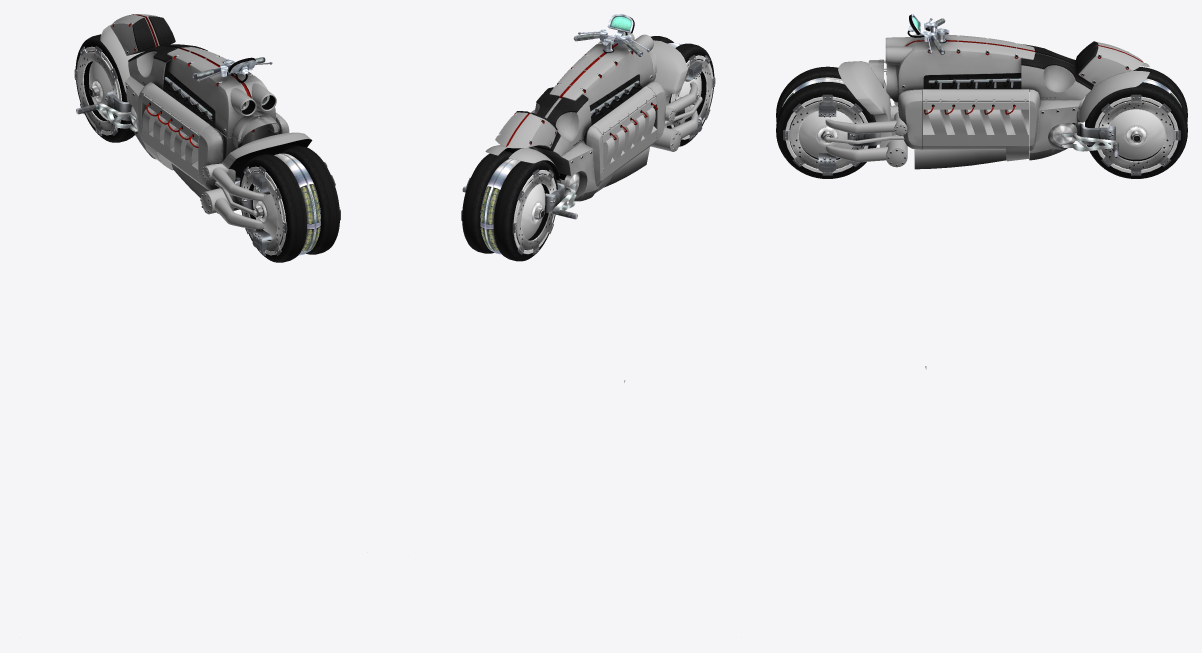
The model's file is dodge_tomahawk_2003.glb.
3 views of the same model, side by side, from view 1: azimuth 30°, elevation 25°; view 2: azimuth 150°, elevation 25°; view 3: azimuth 270°, elevation 25° (orthographic). The views are drawn at different scales.
Parts seen in each view (by area): view 1: Object_2, Object_7, Object_17, Object_3, Object_11, Object_13, Object_5, Object_8, Object_10, Object_14, Object_12; view 2: Object_2, Object_7, Object_17, Object_3, Object_11, Object_13, Object_8, Object_10, Object_5, Object_14, Object_12; view 3: Object_2, Object_7, Object_3, Object_17, Object_13, Object_11, Object_14, Object_8.
Part boxes in pixels (bbox=[...]): Object_2: bbox=[110, 14, 289, 213]; Object_7: bbox=[100, 25, 311, 229]; Object_17: bbox=[75, 34, 339, 262]; Object_3: bbox=[74, 46, 340, 255]; Object_11: bbox=[75, 16, 283, 252]; Object_13: bbox=[89, 61, 283, 239]; Object_5: bbox=[84, 51, 311, 251]; Object_8: bbox=[75, 16, 284, 253]; Object_10: bbox=[300, 184, 320, 251]; Object_14: bbox=[77, 46, 286, 255]; Object_12: bbox=[89, 14, 256, 216]; Object_2: bbox=[495, 32, 665, 201]; Object_7: bbox=[485, 33, 702, 192]; Object_17: bbox=[462, 36, 714, 261]; Object_3: bbox=[461, 14, 715, 254]; Object_11: bbox=[465, 33, 714, 251]; Object_13: bbox=[516, 74, 701, 239]; Object_8: bbox=[462, 32, 714, 252]; Object_10: bbox=[480, 186, 500, 250]; Object_5: bbox=[504, 59, 706, 250]; Object_14: bbox=[513, 55, 713, 254]; Object_12: bbox=[499, 43, 699, 217]; Object_2: bbox=[868, 34, 1143, 169]; Object_7: bbox=[824, 38, 1149, 167]; Object_3: bbox=[782, 14, 1181, 175]; Object_17: bbox=[776, 66, 1187, 178]; Object_13: bbox=[798, 109, 1165, 159]; Object_11: bbox=[785, 18, 1178, 174]; Object_14: bbox=[785, 96, 1178, 173]; Object_8: bbox=[785, 18, 1178, 174].
Size of the model in its own units: 2.09 by 3.17 by 2.19.
Materials: 18 (10 with a texture image).
